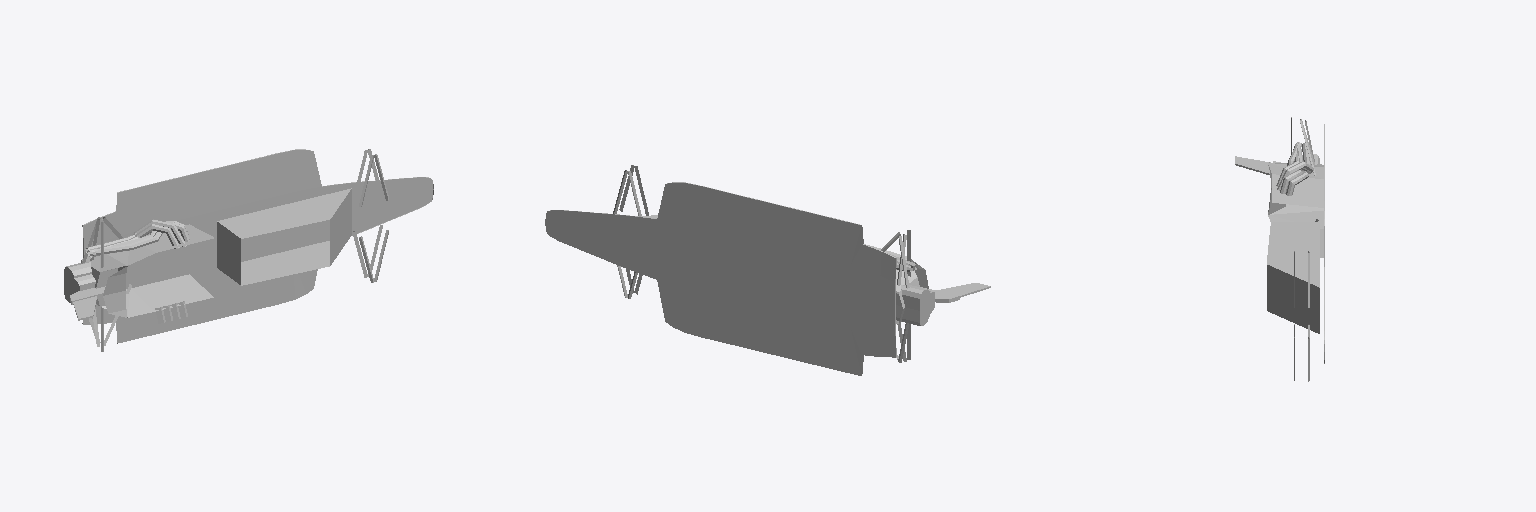
The model's file is Engine.obj.
The picture shows the model from 3 angles: view 1: azimuth 30°, elevation 25°; view 2: azimuth 150°, elevation 25°; view 3: azimuth 270°, elevation 25°; orthographic projection.
Parts seen in each view (by area): view 1: undercarriage, Cockpit, engine2, suspension, engine1, spoiler_frame; view 2: undercarriage, suspension, engine2, spoiler_frame; view 3: Cockpit, engine2, engine1, suspension.
Boxes of the visible parts, box(x1,y1,x2,y2) form: undercarriage: box(82, 149, 433, 343); Cockpit: box(217, 188, 351, 285); engine2: box(64, 224, 213, 317); suspension: box(81, 149, 388, 351); engine1: box(85, 219, 189, 323); spoiler_frame: box(70, 286, 105, 320); undercarriage: box(545, 182, 896, 375); suspension: box(613, 165, 910, 362); engine2: box(865, 244, 934, 325); spoiler_frame: box(921, 283, 990, 302); Cockpit: box(1267, 222, 1319, 333); engine2: box(1268, 154, 1323, 257); engine1: box(1276, 142, 1313, 195); suspension: box(1291, 117, 1318, 381).
Size of the model in its own units: 3.91 by 1.41 by 0.7665.